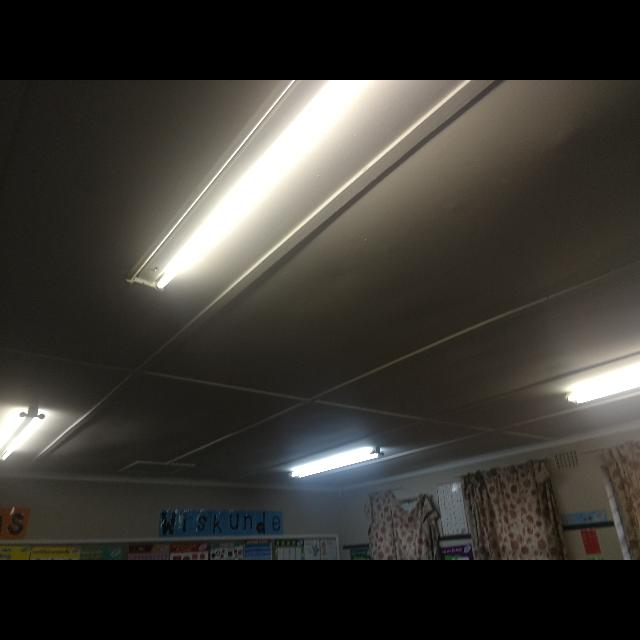Straight-Tube-Fluorescent-Lamp: (174, 80, 396, 298), (274, 431, 398, 491), (526, 373, 640, 413), (0, 399, 50, 468)
